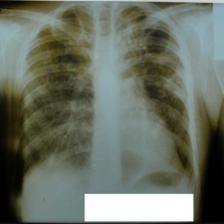tuberculosis: (15, 0, 199, 193)
